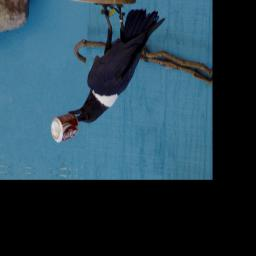Crow: (66, 0, 166, 129)
